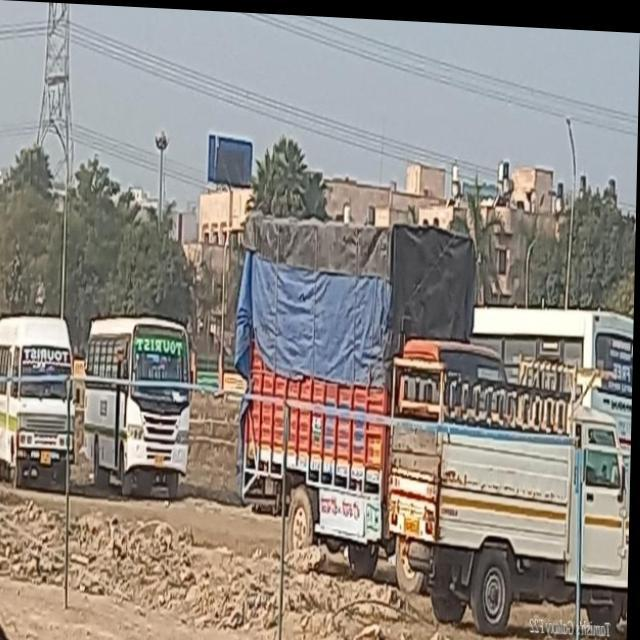covered: (234, 222, 476, 488)
